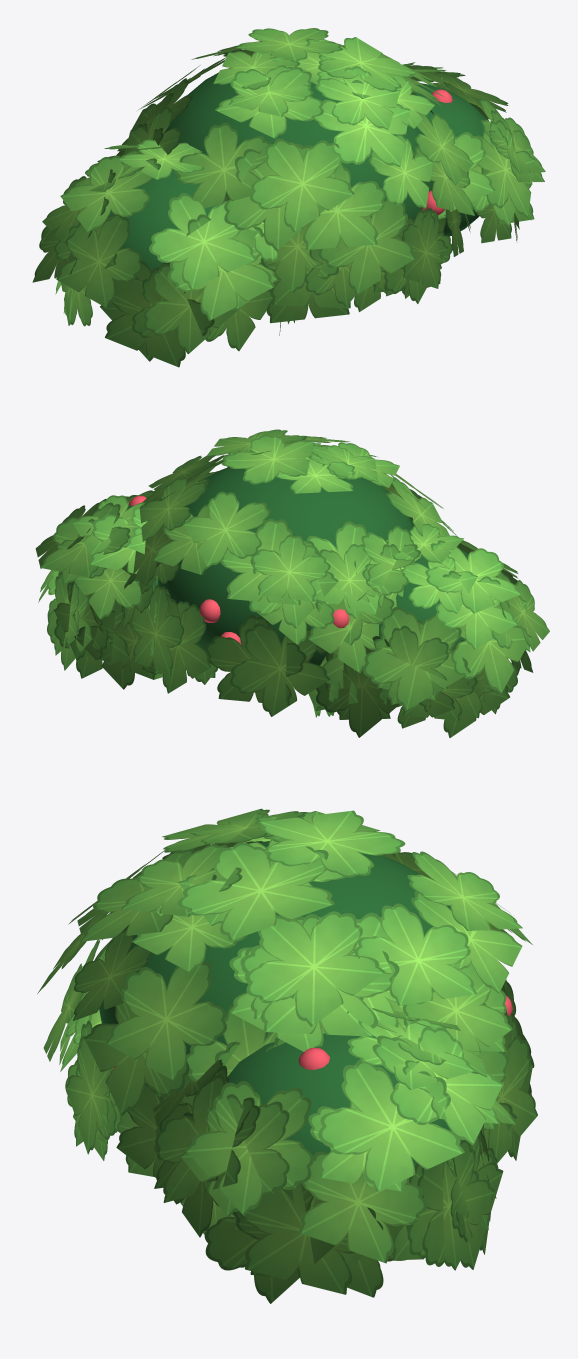
The model's file is bush.glb.
The picture shows the model from 3 angles, top to bottom: view 1: azimuth 30°, elevation 25°; view 2: azimuth 150°, elevation 25°; view 3: azimuth 270°, elevation 25°; orthographic projection. The views are drawn at different scales.
Visible parts, largest first — view 1: L0, L2, L1, L0Core, L2Core, L1Core; view 2: L0, L2, L1, L0Core, L2Core; view 3: L0, L1, L0Core, L1Core.
Part boxes in pixels (x1,y1,x2,y2): L0: (116,28,474,323); L2: (32,139,294,367); L1: (402,62,545,243); L0Core: (163,67,434,222); L2Core: (109,169,219,270); L1Core: (412,83,486,236); L0: (122,429,456,716); L2: (305,524,549,737); L1: (35,490,218,689); L0Core: (158,464,414,665); L2Core: (379,549,468,648); L0: (37,808,537,1177); L1: (153,1008,516,1303); L0Core: (99,841,451,1054); L1Core: (227,1033,451,1167).
Size of the model in its own units: 2.34 by 1.22 by 1.54.
Materials: 3 (1 with a texture image).
